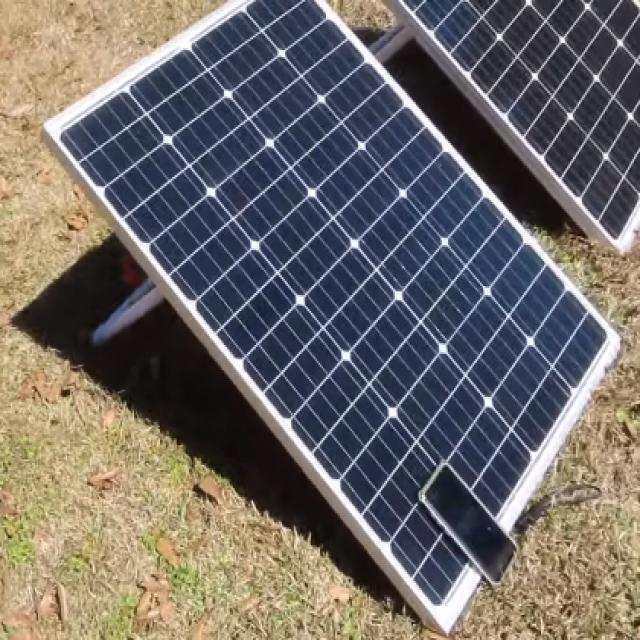Normal Solar Panel: (46, 2, 622, 635), (406, 0, 640, 240)
